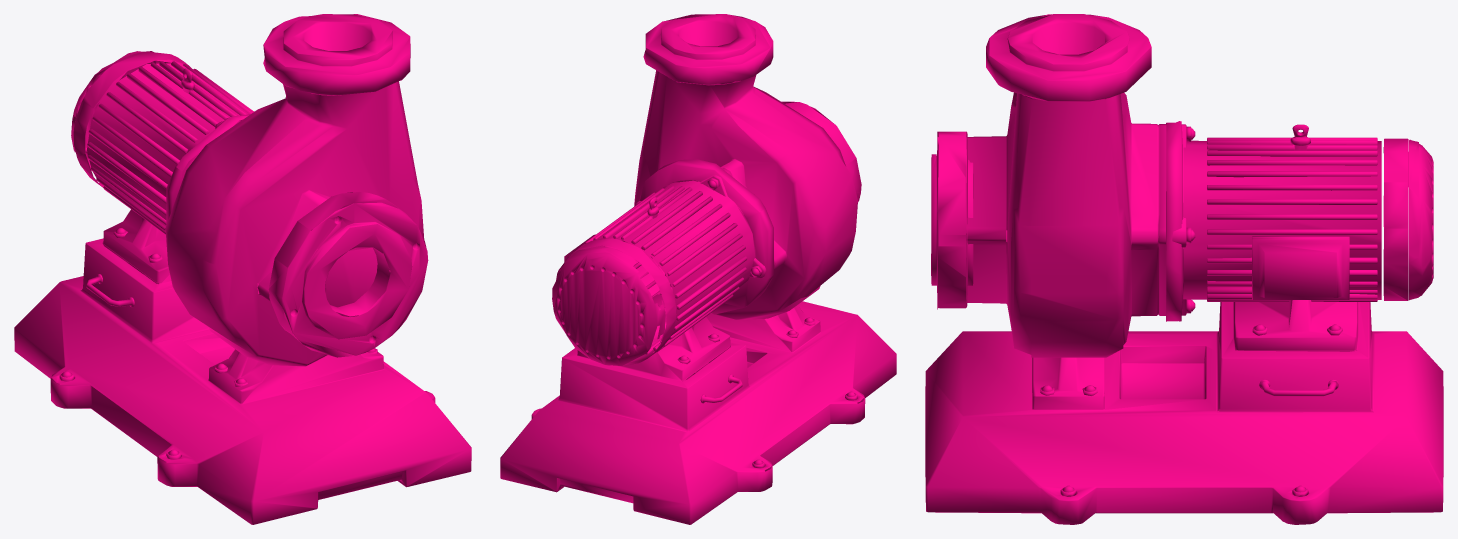
The model's file is Dvigatel.fbx.
3 views of the same model, side by side, from view 1: azimuth 30°, elevation 25°; view 2: azimuth 150°, elevation 25°; view 3: azimuth 270°, elevation 25° (orthographic). The views are drawn at different scales.
Parts seen in each view (by area): view 1: Dvigatel_LOD0; view 2: Dvigatel_LOD0; view 3: Dvigatel_LOD0.
Part boxes in pixels (left/top/right/bottom): Dvigatel_LOD0: left=14, top=14, right=471, bottom=524; Dvigatel_LOD0: left=500, top=14, right=896, bottom=524; Dvigatel_LOD0: left=925, top=14, right=1443, bottom=524.
Size of what is drawn, in the model's own units: 99.88 by 142 by 152.
